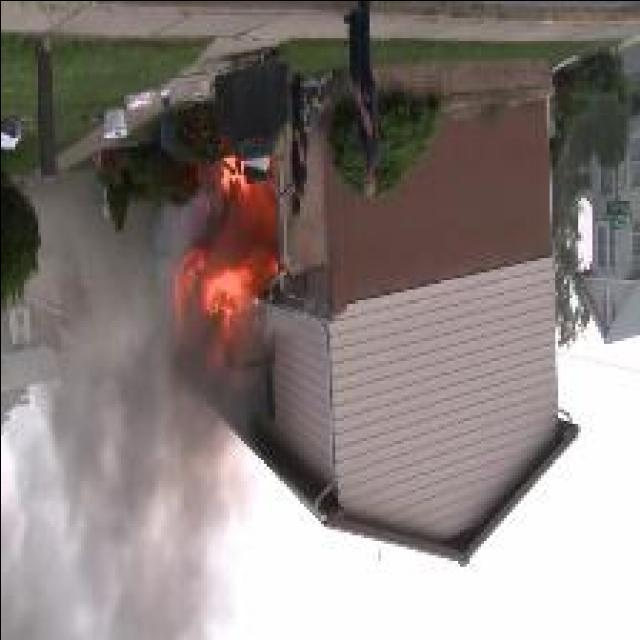Fire: (173, 247, 250, 364), (220, 156, 248, 202)
